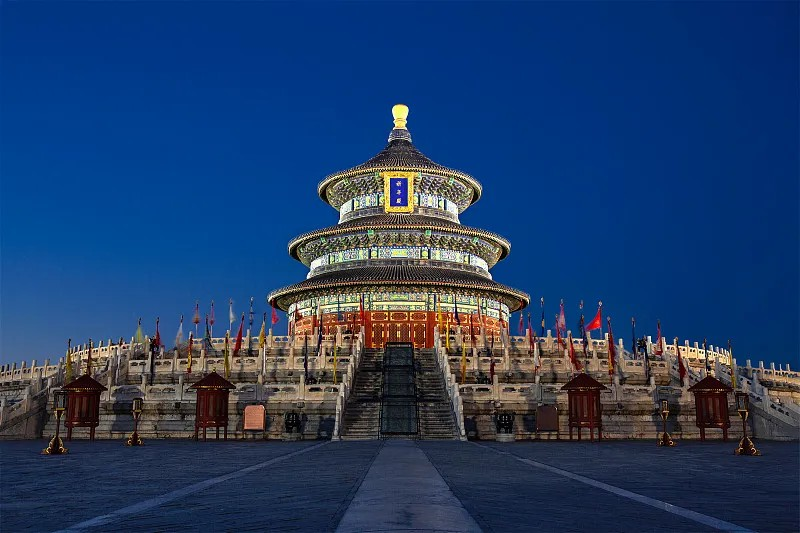Heaven: (268, 102, 531, 349)
